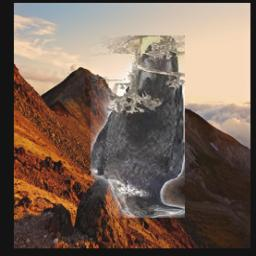Crow: (91, 35, 185, 218)
